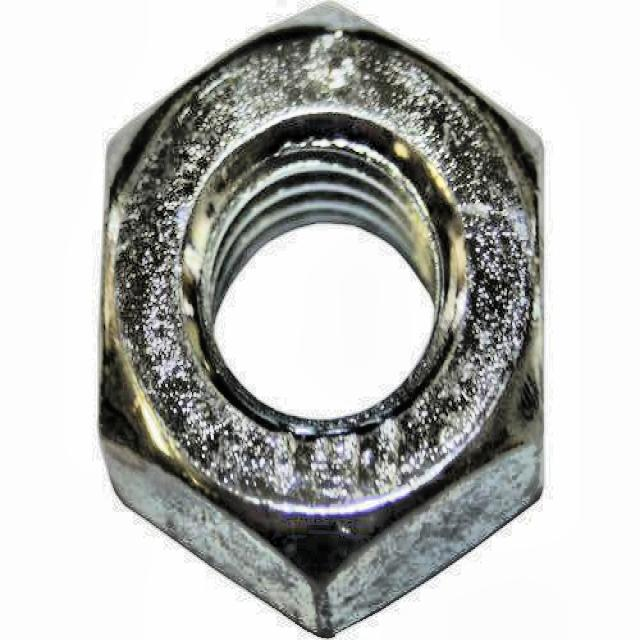Nut Detection - v1 Nut Dataset: (74, 3, 554, 635)
